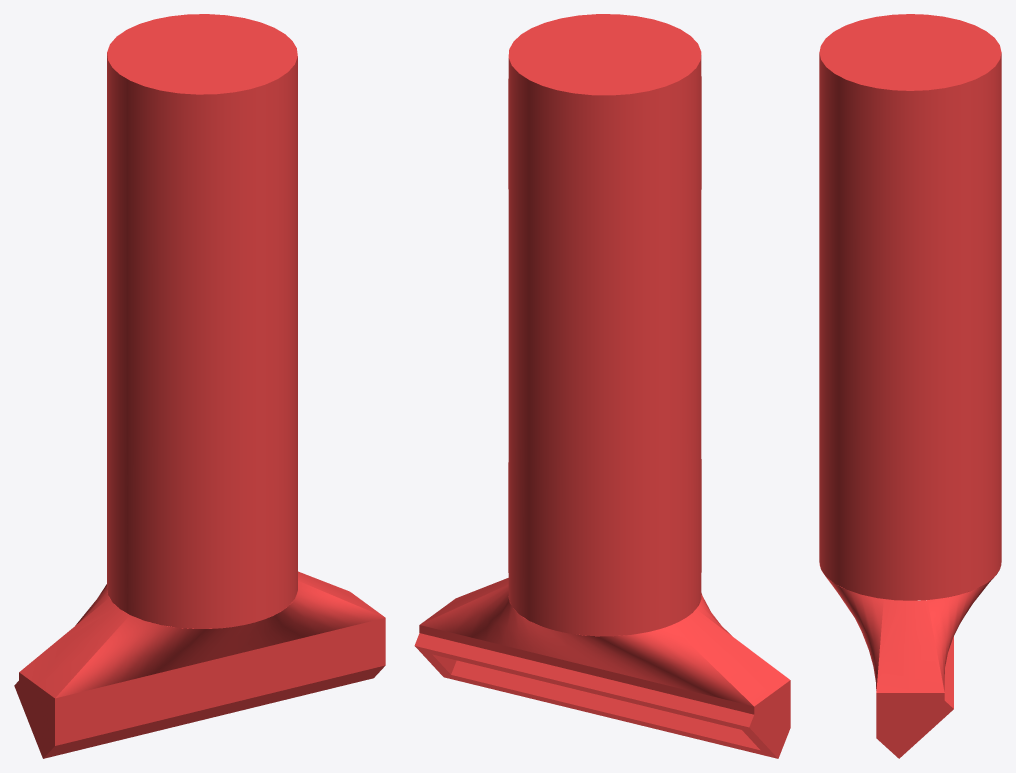
File: 181120 Nozzle External.obj
The picture shows the model from 3 angles, left to right: view 1: azimuth 30°, elevation 25°; view 2: azimuth 150°, elevation 25°; view 3: azimuth 270°, elevation 25°; orthographic projection. The views are drawn at different scales.
Bounding box in the file's own units: 0.08 × 0.1525 × 0.04.
